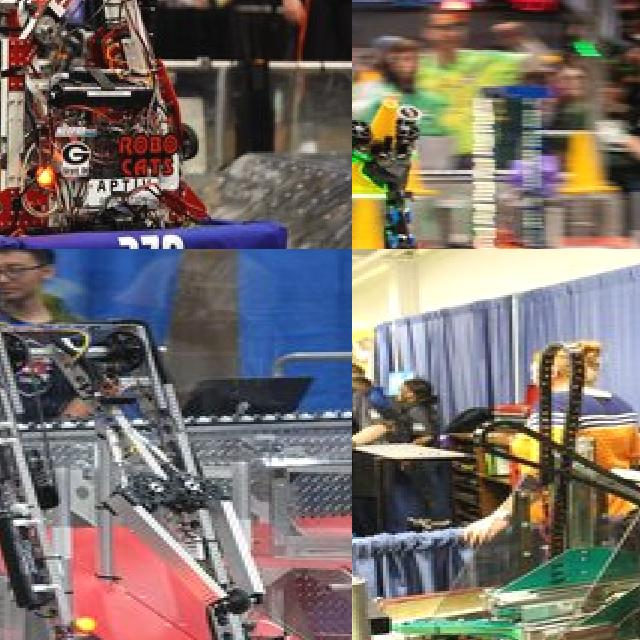FRC-Robots: (0, 313, 352, 640), (0, 0, 324, 249), (354, 364, 640, 640), (352, 90, 623, 249)
